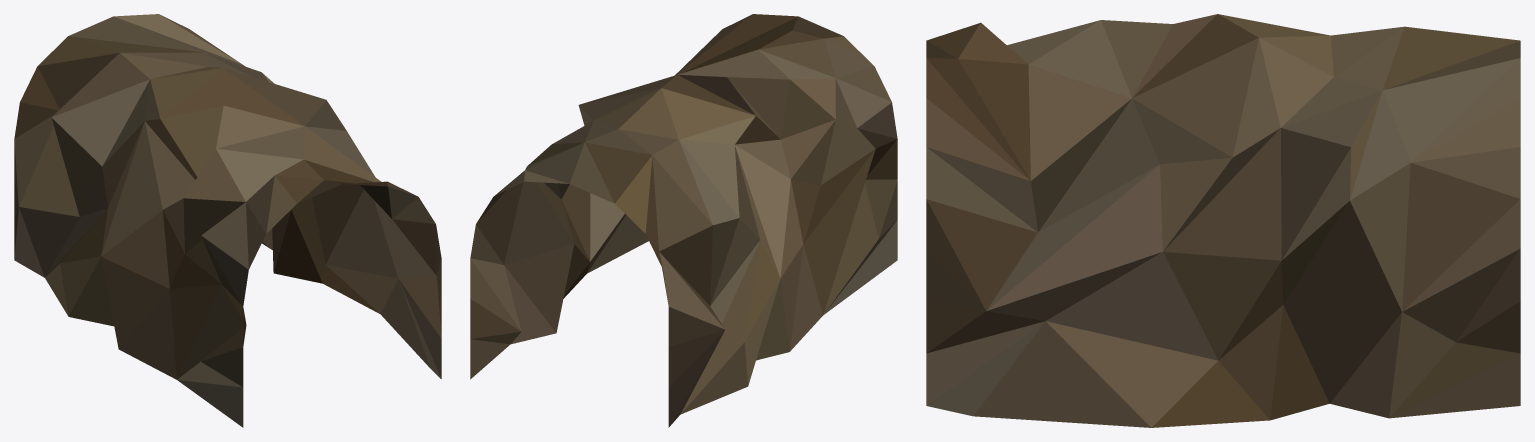
Rendered from Cave-Hall10mC.fbx.
3 views of the same model, side by side, from view 1: azimuth 30°, elevation 25°; view 2: azimuth 150°, elevation 25°; view 3: azimuth 270°, elevation 25° (orthographic). The views are drawn at different scales.
Parts seen in each view (by area): view 1: Cave-Hall10mC; view 2: Cave-Hall10mC; view 3: Cave-Hall10mC.
Boxes of the visible parts, x1,y1,x2,y2 form: Cave-Hall10mC: (14, 14, 441, 427); Cave-Hall10mC: (470, 14, 897, 427); Cave-Hall10mC: (926, 14, 1520, 427).
Size of the model in its own units: 630 by 589 by 1000.
